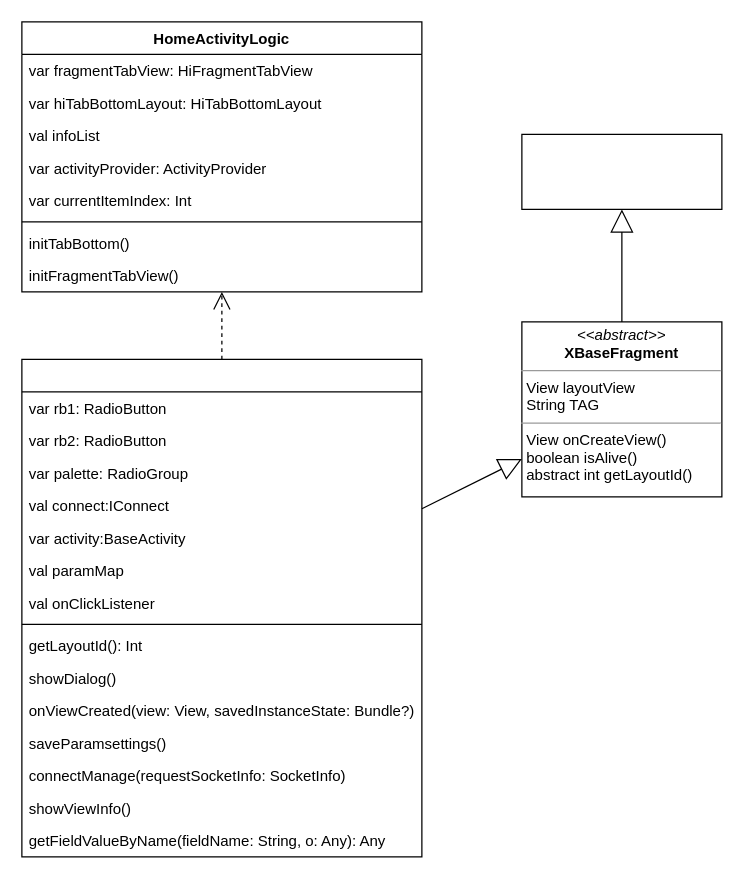
Image size: 744x883. Some labels were removed from this diagram. The shapes that lost their labels are listed below. From the top down, each one's box as (x1, y1, x2, y2) in pixels, then its label:
(521, 133, 722, 209): Fragment
(21, 358, 422, 857): ParamSettingsFragment
